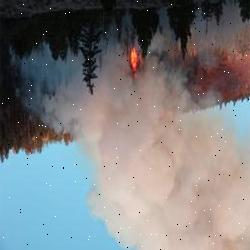fire: (120, 40, 145, 82)
